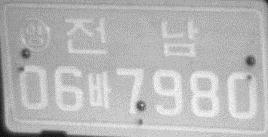0: (226, 71, 259, 120), (19, 64, 49, 110)
6: (53, 65, 85, 112)
7: (116, 66, 145, 113)
8: (188, 70, 221, 119)
9: (151, 68, 185, 116)
바: (87, 71, 112, 108)
영: (19, 16, 52, 52)
전남_D: (63, 16, 201, 58)
